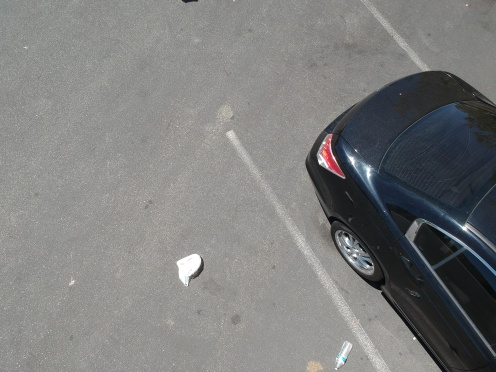bottle: (329, 339, 355, 371)
plastic bag: (169, 248, 205, 288)
